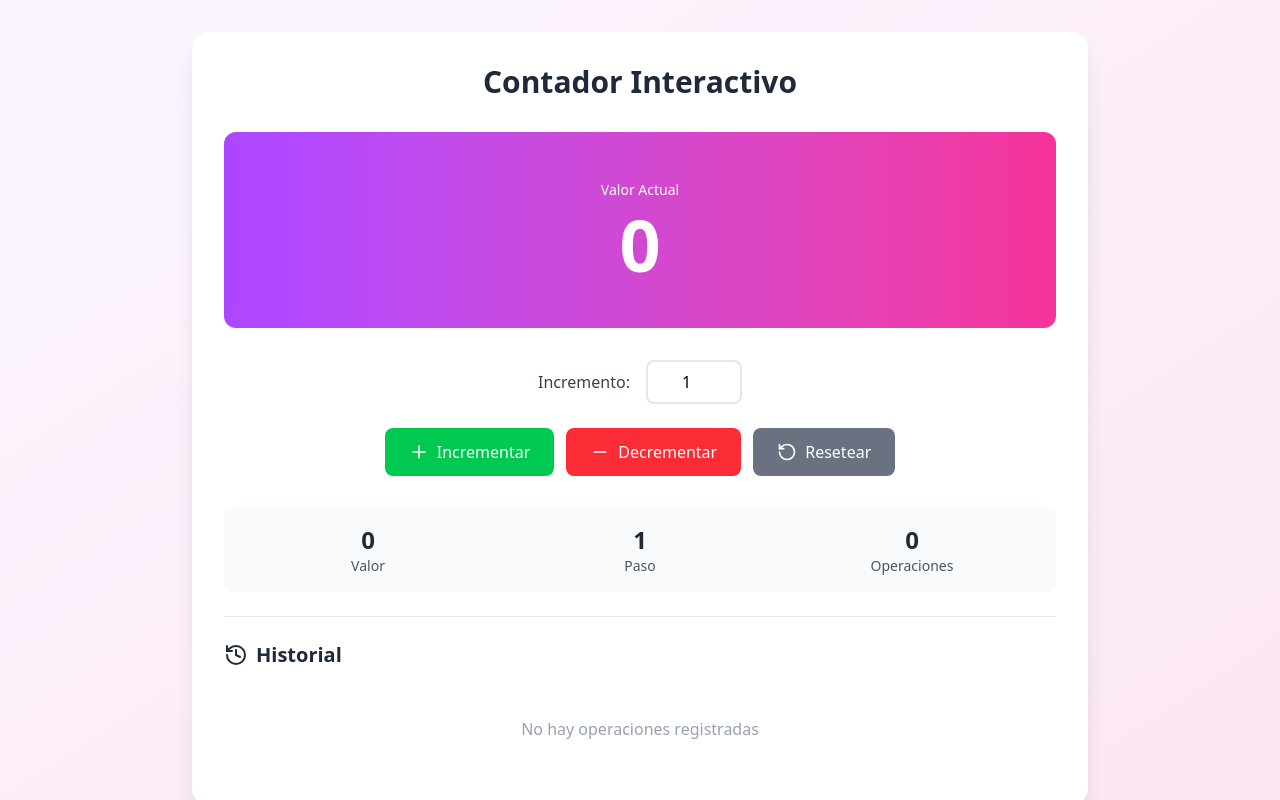
Test: Bloque de pruebas para App de Counter › Historial de operaciones › debe limpiar el historial completamente
# Hacer varias operaciones
Click the button labelled "Incrementar".
click(469, 452)  # box x1=385 y1=428 x2=554 y2=476
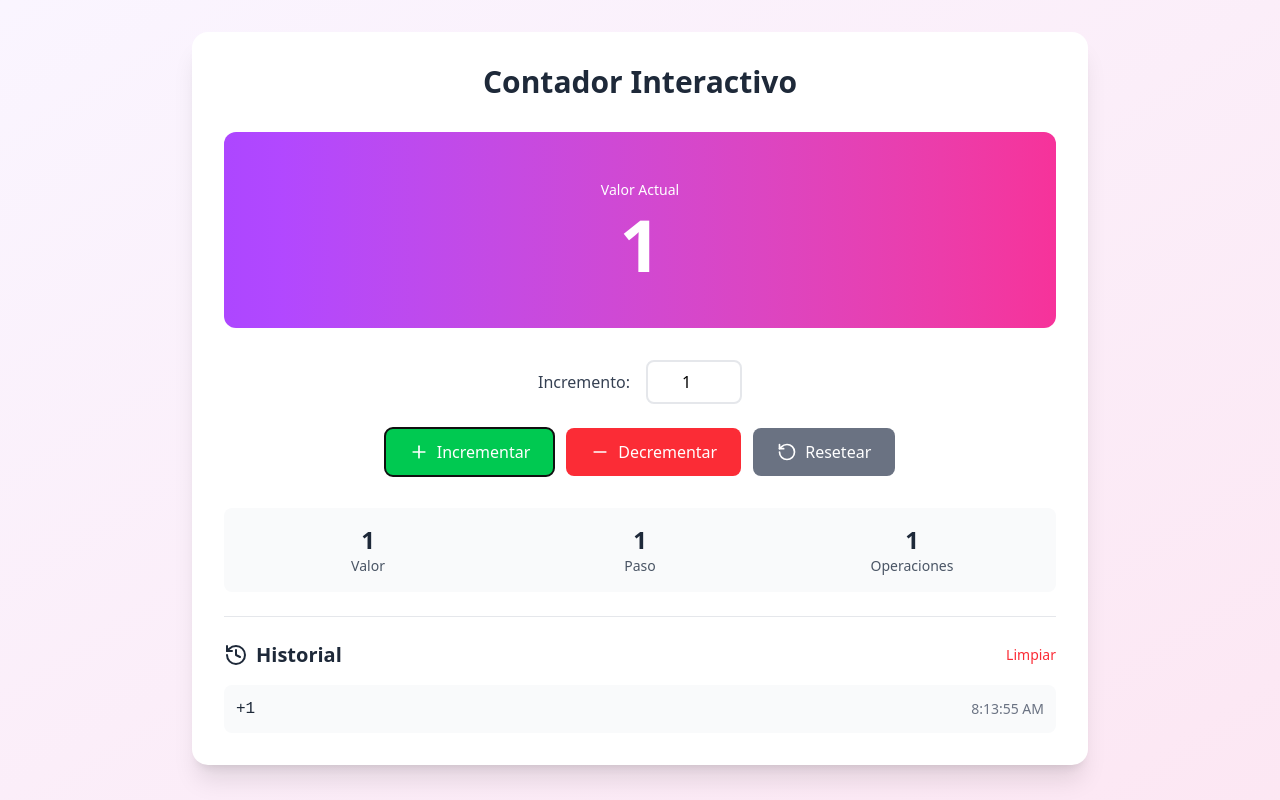
Click the button labelled "Incrementar".
click(469, 452)  # box x1=385 y1=428 x2=554 y2=476
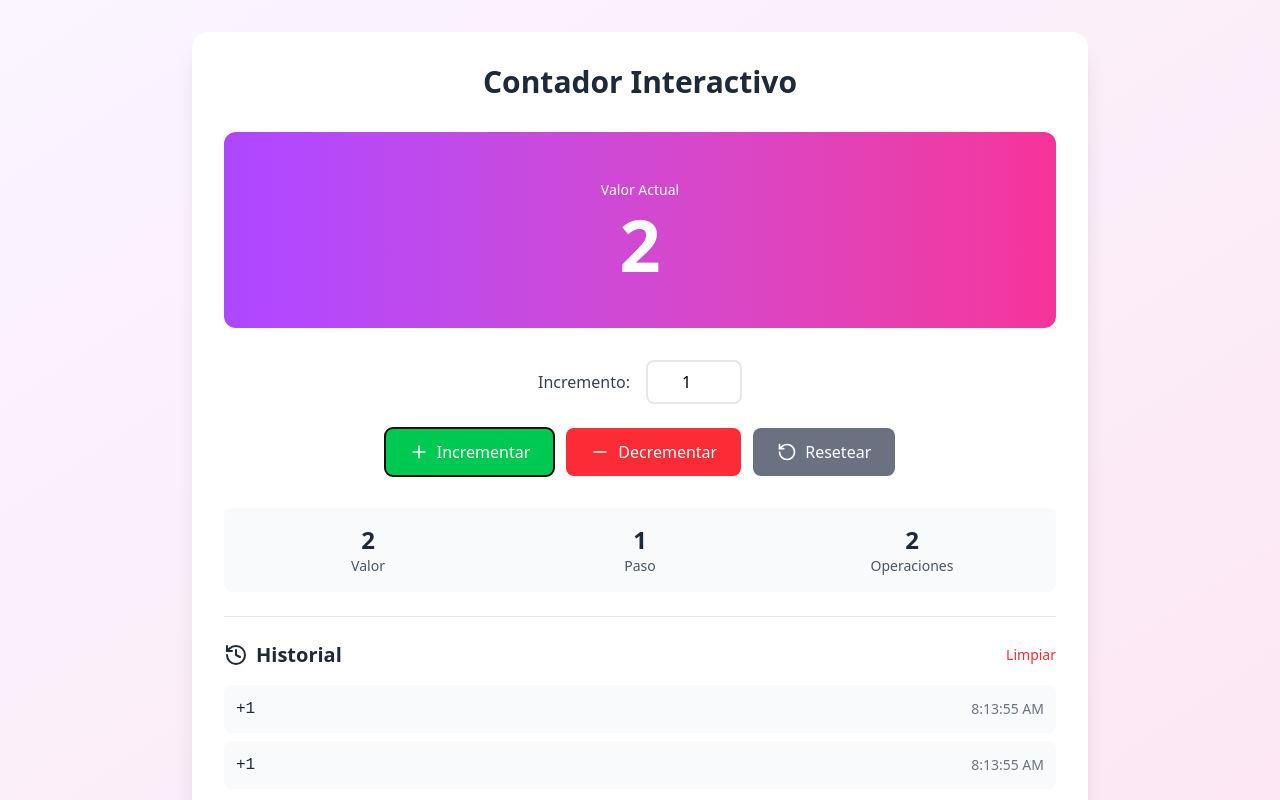
Click the button labelled "Incrementar".
click(469, 452)  # box x1=385 y1=428 x2=554 y2=476
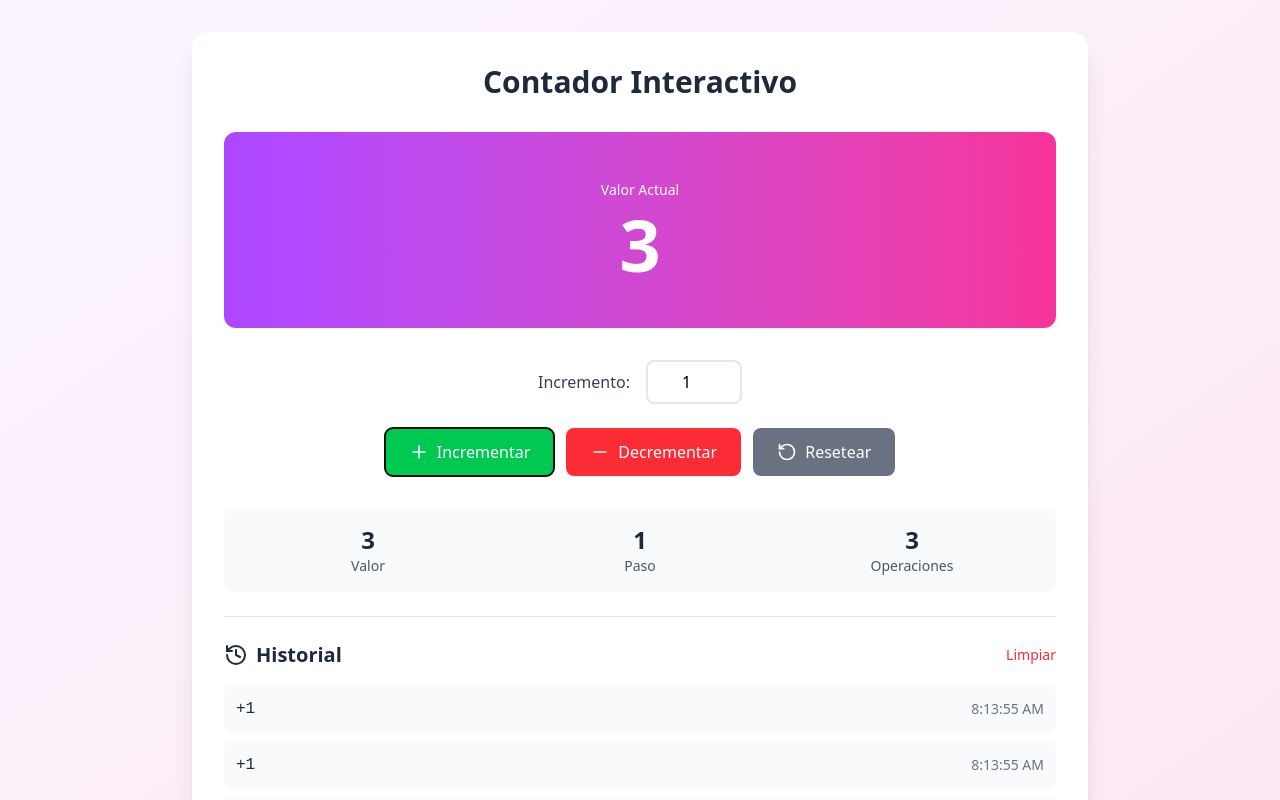
# Limpiar historial
Click the button with aria-label "Limpiar historial".
click(1031, 655)  # box x1=1006 y1=645 x2=1056 y2=665
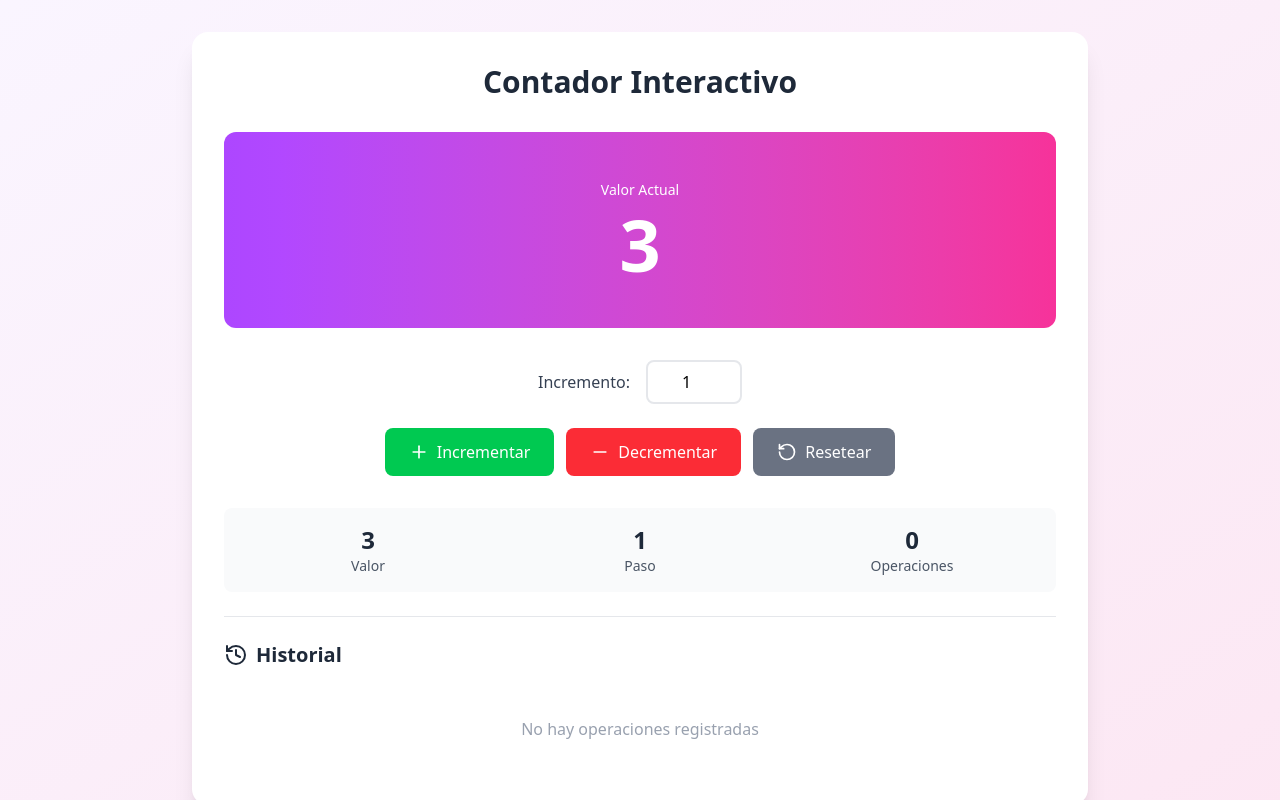
Expected: the text "No hay operaciones registradas" is shown, x1=521 y1=718 x2=759 y2=740
Expected: the text "+1" is gone
